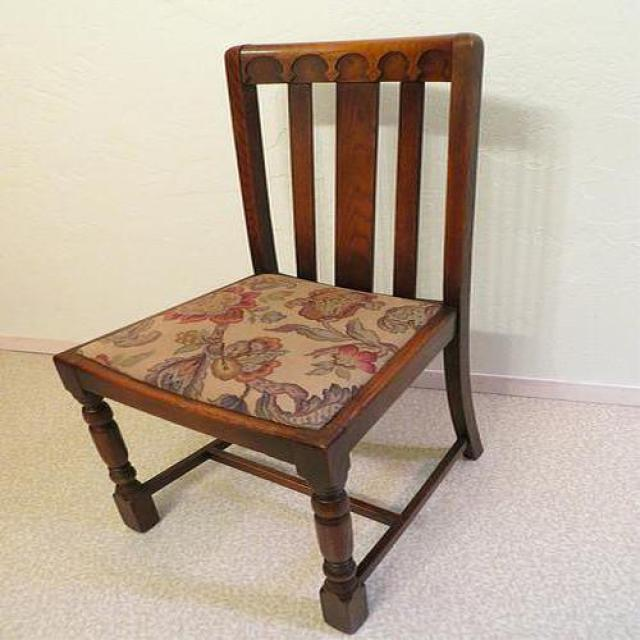chair: (52, 35, 485, 637)
